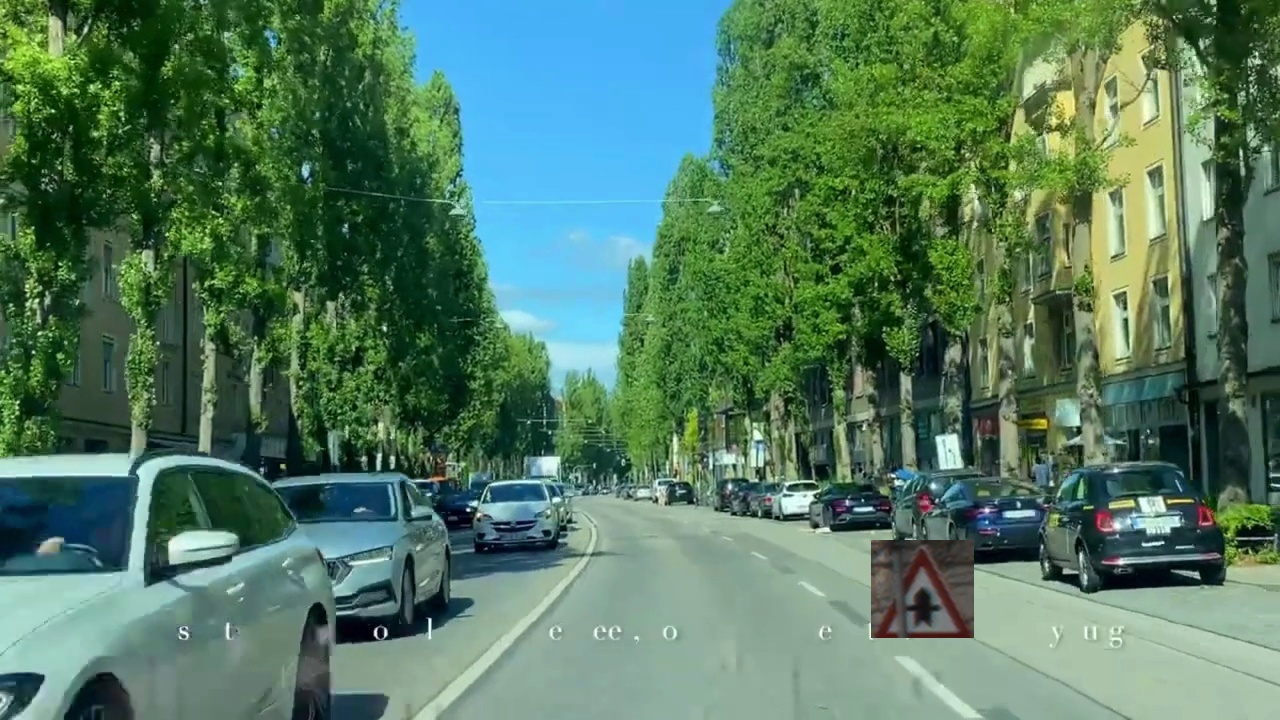Right-of-way: (871, 540, 974, 638)
